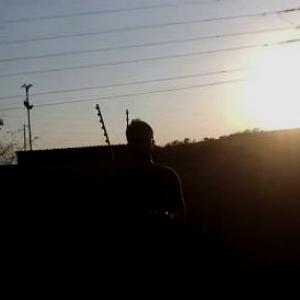follow: (110, 115, 195, 299)
